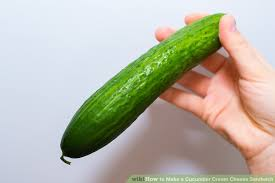cucumber: (52, 15, 227, 156)
